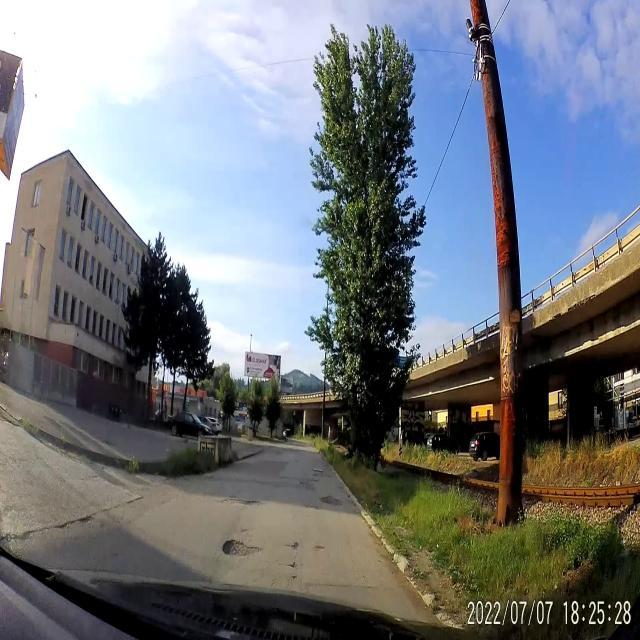Pothole: (218, 532, 259, 568), (225, 493, 262, 511), (318, 489, 344, 509), (282, 530, 302, 553), (294, 478, 319, 493), (306, 466, 332, 476), (310, 539, 333, 550), (281, 560, 302, 570), (282, 574, 304, 580)
